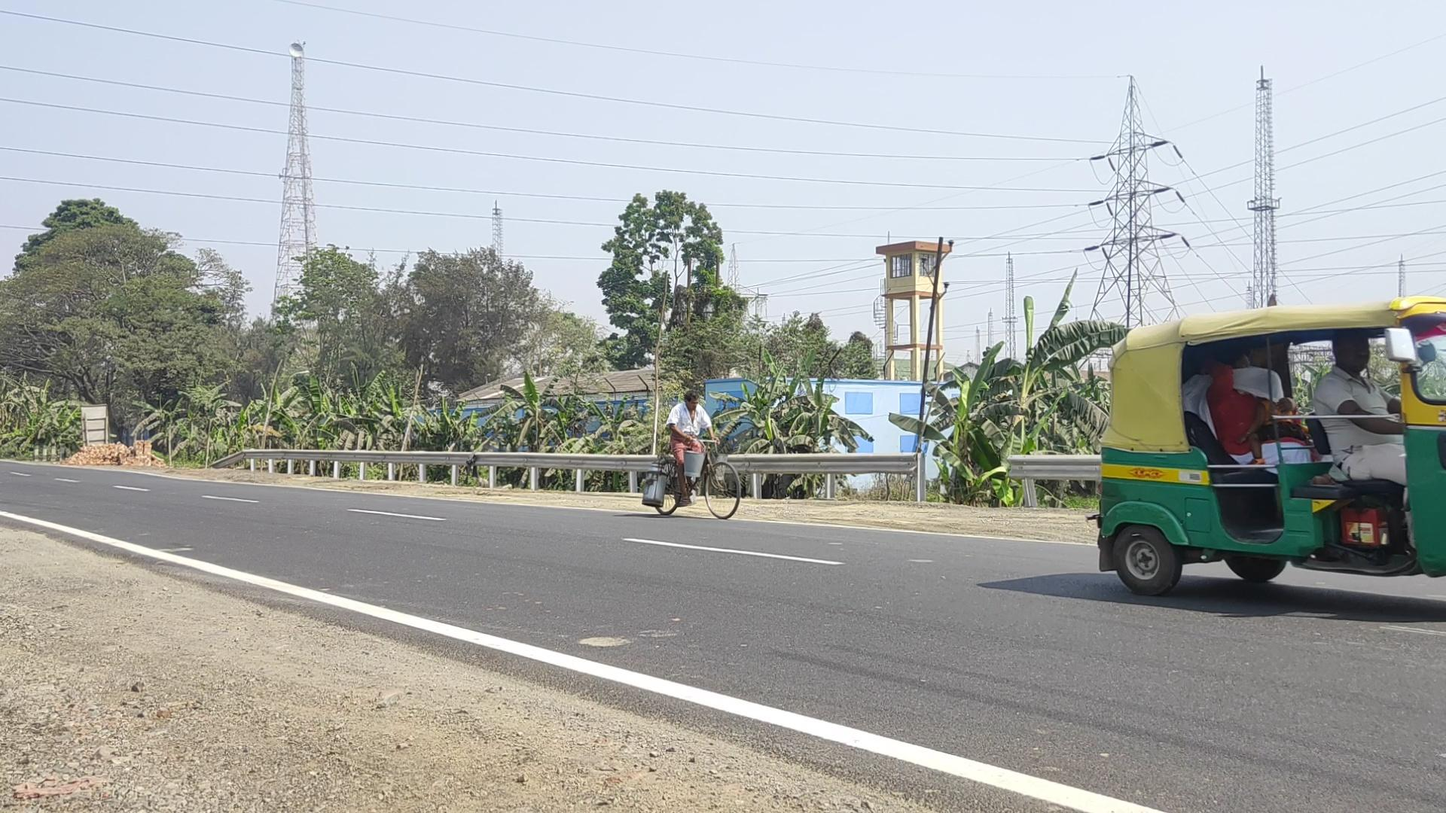Auto: (1086, 296, 1446, 598)
bike: (642, 391, 741, 520)
